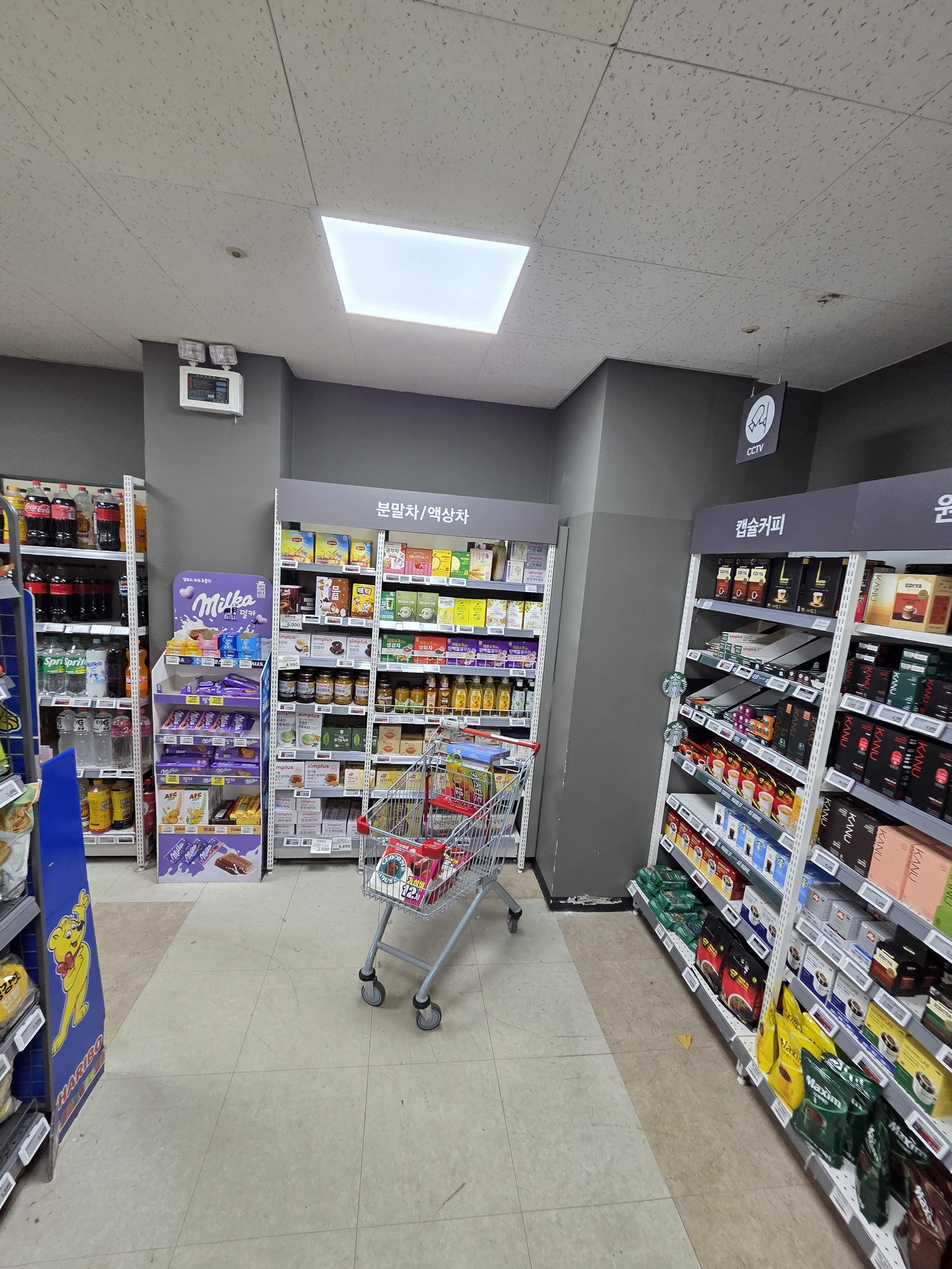fully_cart: (354, 711, 549, 1035)
